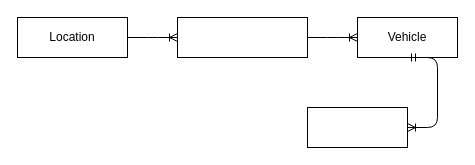
This 475x165 diagram has some shape labels left out. The shapes that lost their labels are listed below. From the top down, each one's centre as x and y in pixels, then its label:
(242,37): LocationVehiclelookup
(357,127): Electric Vehicles
